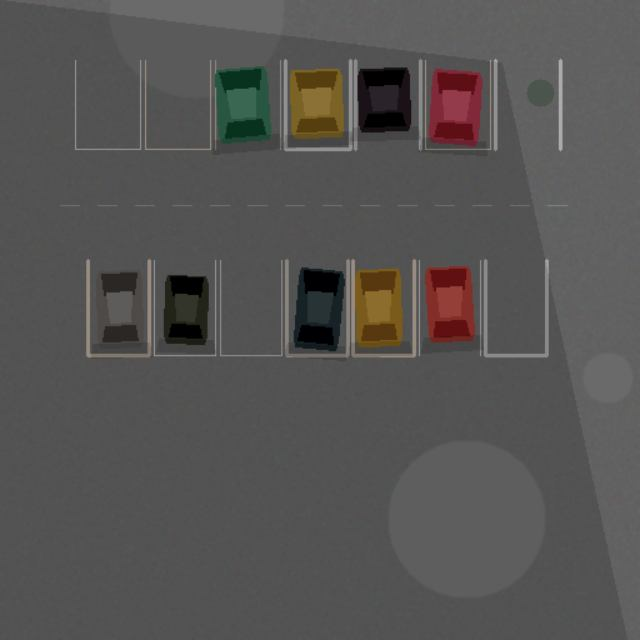space-empty: (220, 260, 281, 355), (485, 260, 546, 355), (75, 60, 140, 149), (145, 60, 210, 149), (495, 60, 560, 149)
space-occupied: (87, 260, 149, 355), (154, 260, 215, 355), (286, 260, 347, 355), (353, 260, 414, 355), (419, 260, 480, 355), (215, 60, 280, 149), (285, 60, 350, 149), (355, 60, 420, 149), (425, 60, 490, 149)
